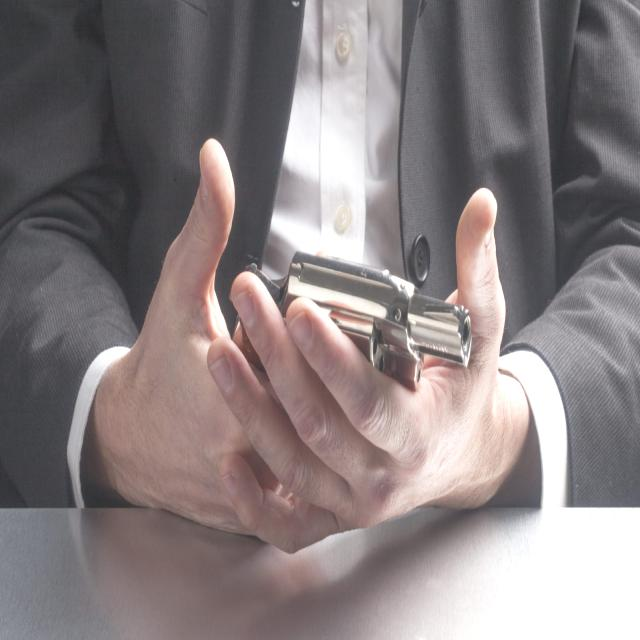pistol: (228, 248, 482, 405)
